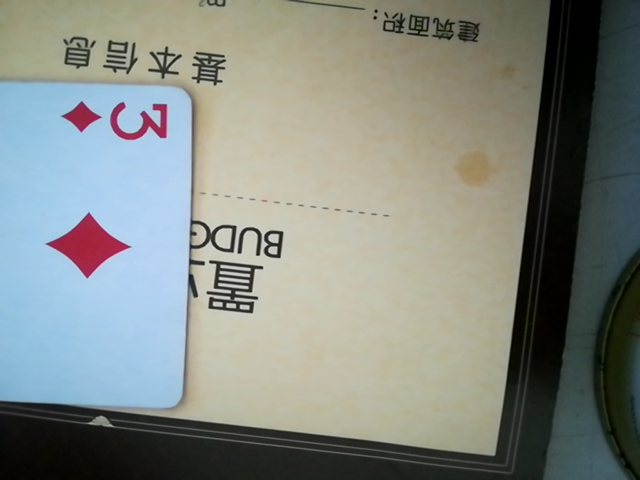fk 3: (0, 68, 200, 405)
